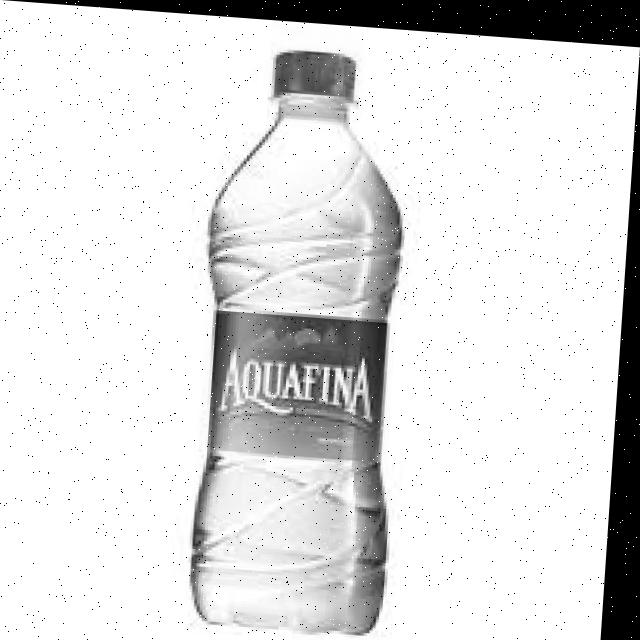bottle: (148, 30, 476, 640)
